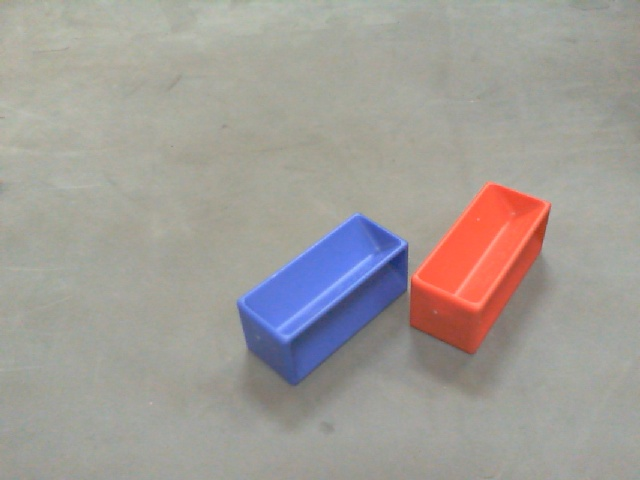BlueSample: (236, 210, 408, 383)
RedSample: (404, 177, 554, 363)
